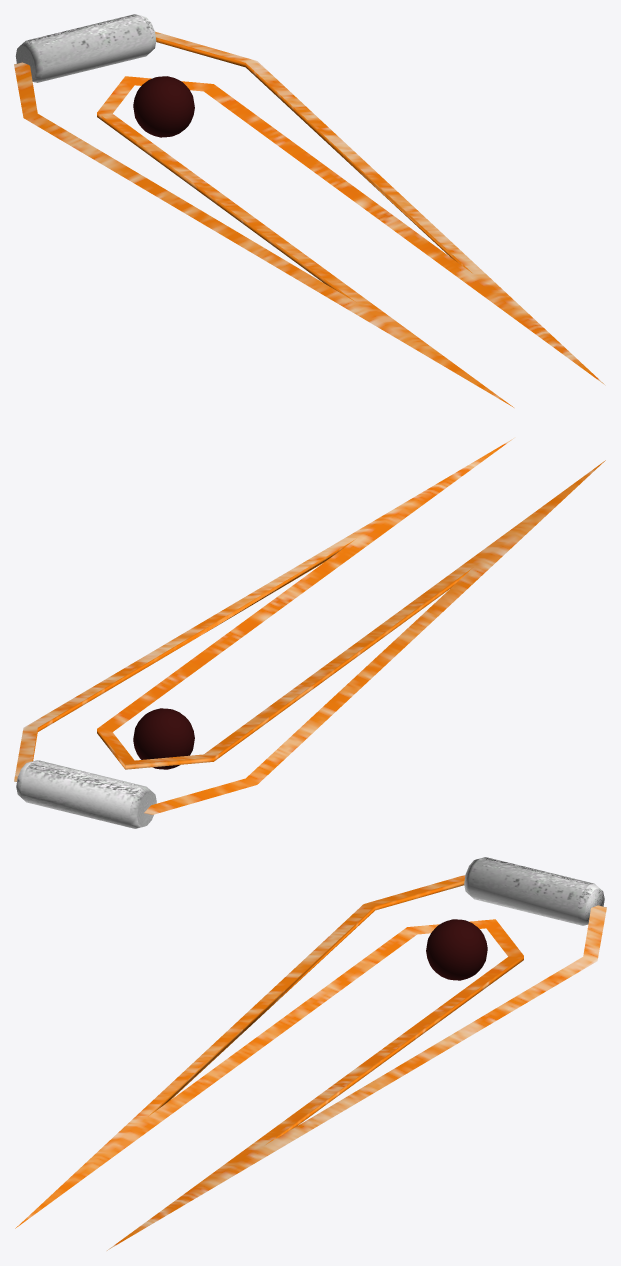
The model's file is stansword.obj.
The picture shows the model from 3 angles, top to bottom: view 1: azimuth 30°, elevation 25°; view 2: azimuth 150°, elevation 25°; view 3: azimuth 330°, elevation 25°; orthographic projection.
Visible parts, largest first — view 1: Handle1, Forcefield1; view 2: Handle1, Forcefield1; view 3: Handle1, Forcefield1.
Boxes of the visible parts, box(x1,y1,x2,y2) form: Handle1: box(14, 14, 605, 407); Forcefield1: box(133, 76, 194, 137); Handle1: box(14, 438, 605, 828); Forcefield1: box(133, 708, 194, 769); Handle1: box(15, 857, 606, 1250); Forcefield1: box(426, 919, 487, 980).
Size of the model in its own units: 1.31 by 0.3 by 4.72.
3 materials, 2 textured.
